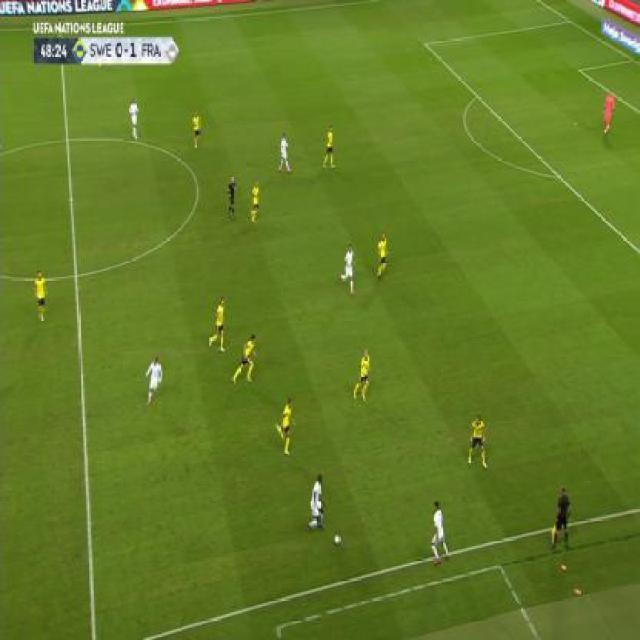ball: (332, 533, 340, 546)
player: (428, 499, 453, 568), (232, 330, 260, 387), (550, 483, 573, 552), (306, 473, 328, 532), (206, 295, 228, 354), (467, 412, 489, 471), (353, 346, 372, 403), (144, 353, 164, 407), (278, 396, 295, 458), (338, 242, 357, 296), (33, 268, 49, 324), (375, 230, 391, 281), (601, 90, 617, 136), (277, 132, 293, 174), (322, 123, 336, 169), (249, 178, 262, 224), (128, 95, 141, 141), (226, 173, 237, 221), (192, 109, 201, 149)
